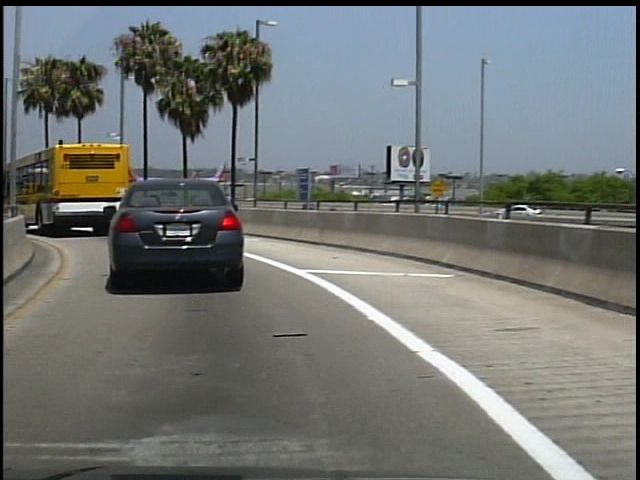car: (112, 175, 244, 291)
strada: (0, 234, 640, 475)
